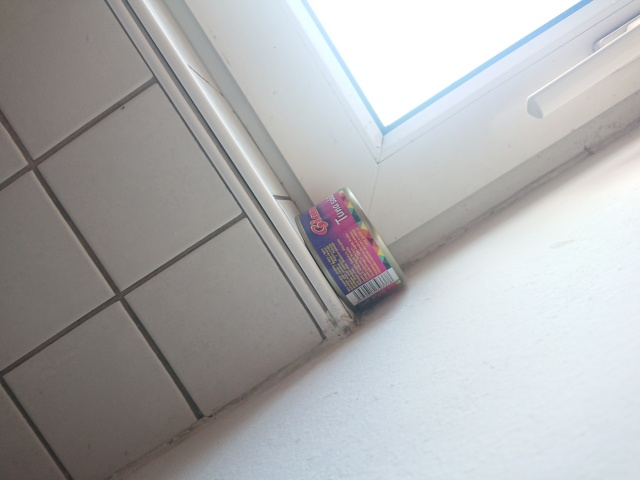Giana Tuna Salad Mexico 185g: (294, 184, 408, 315)
